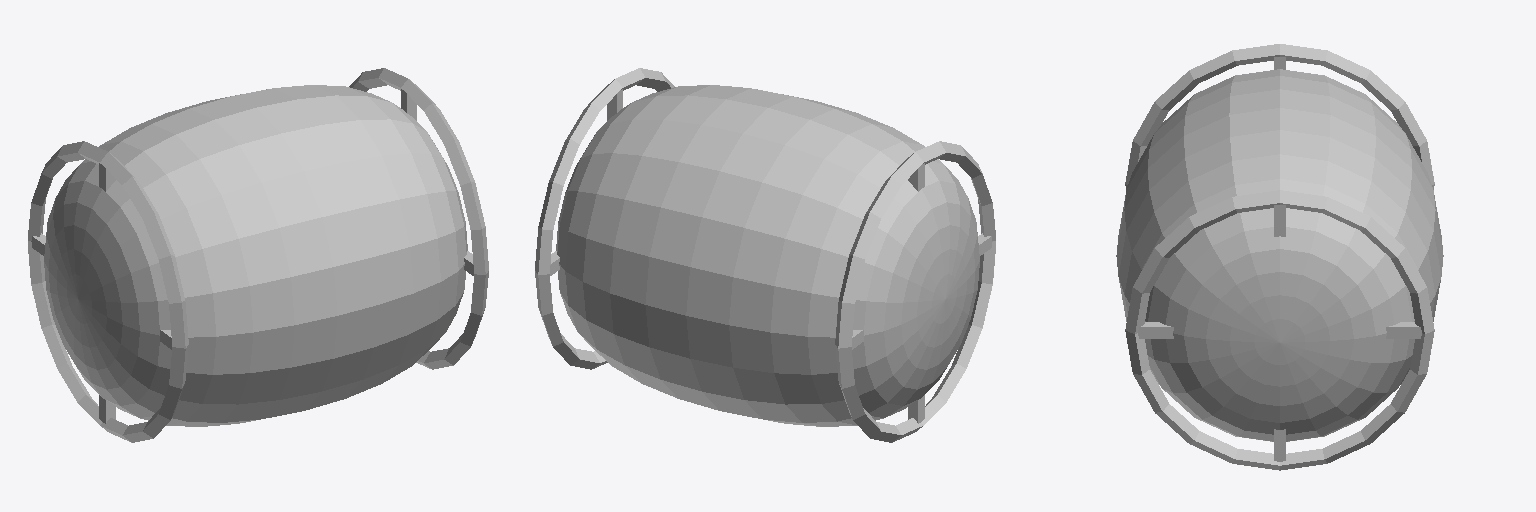
File: QualityUpgradeC1.obj
3 renders of one model, left to right at view 1: azimuth 30°, elevation 25°; view 2: azimuth 150°, elevation 25°; view 3: azimuth 270°, elevation 25°, orthographic.
Visible parts, largest first — view 1: pSphere5 QualityUpgradeC_Parts; view 2: pSphere5 QualityUpgradeC_Parts; view 3: pSphere5 QualityUpgradeC_Parts.
Part boxes in pixels (bbox=[...]): pSphere5 QualityUpgradeC_Parts: bbox=[28, 68, 488, 442]; pSphere5 QualityUpgradeC_Parts: bbox=[535, 68, 995, 442]; pSphere5 QualityUpgradeC_Parts: bbox=[1116, 44, 1443, 470].
Size of the model in its own units: 1.04 by 0.8321 by 0.8321.